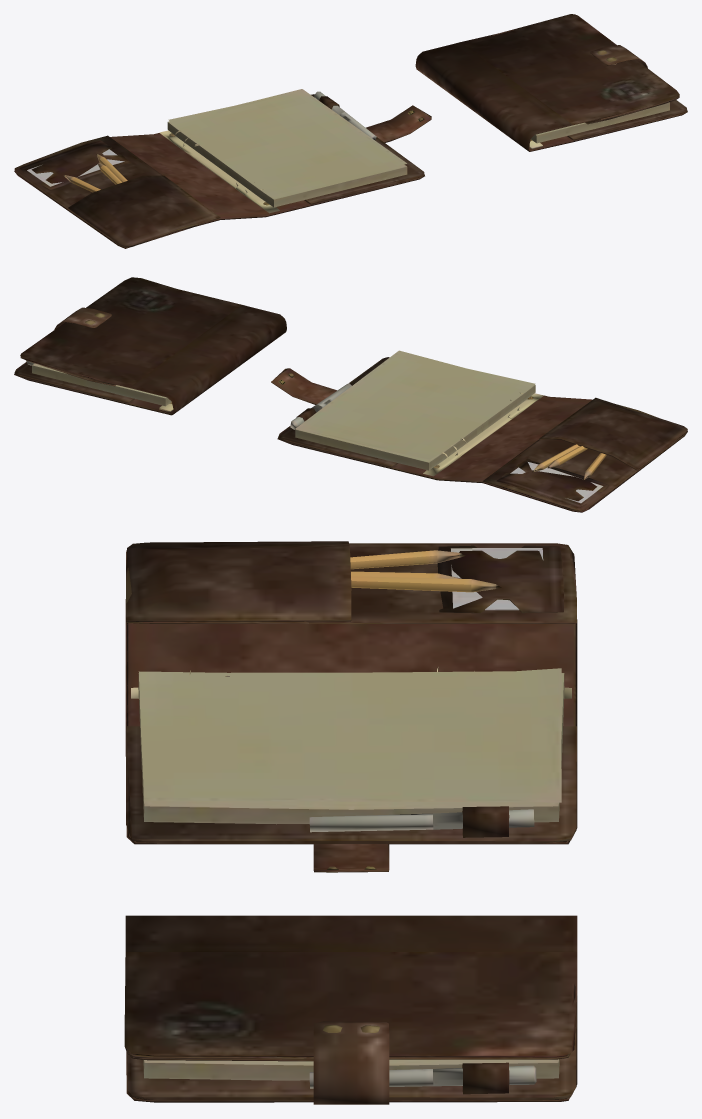
The model's file is notebook.glb.
The picture shows the model from 3 angles, top to bottom: view 1: azimuth 30°, elevation 25°; view 2: azimuth 150°, elevation 25°; view 3: azimuth 270°, elevation 25°; orthographic projection. The views are drawn at different scales.
Visible parts, largest first — view 1: binder_notebook, binder_notebook_closed; view 2: binder_notebook, binder_notebook_closed; view 3: binder_notebook, binder_notebook_closed.
Part boxes in pixels (x1,y1,x2,y2): binder_notebook: (14, 89, 431, 248); binder_notebook_closed: (415, 14, 687, 151); binder_notebook: (271, 350, 687, 512); binder_notebook_closed: (14, 277, 286, 415); binder_notebook: (125, 541, 577, 872); binder_notebook_closed: (124, 915, 577, 1104).
Bounding box in the file's own units: 0.5835 × 0.0249 × 0.1996.
Materials: 1 (1 with a texture image).
